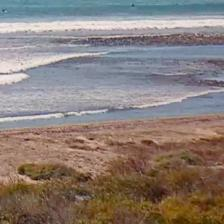surfer: (2, 8, 10, 12), (130, 4, 136, 8)
